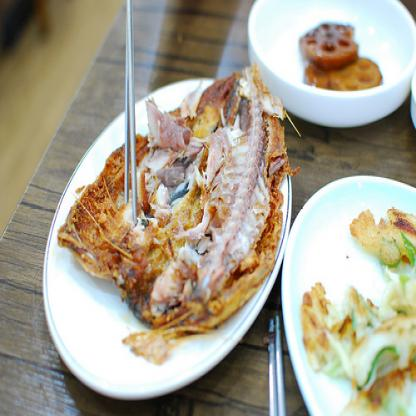Peixe: (52, 65, 286, 374)
